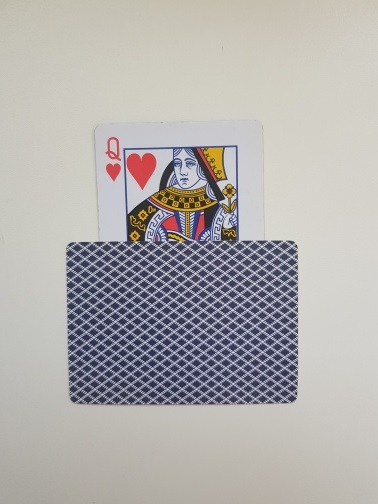queen: (94, 119, 267, 360)
